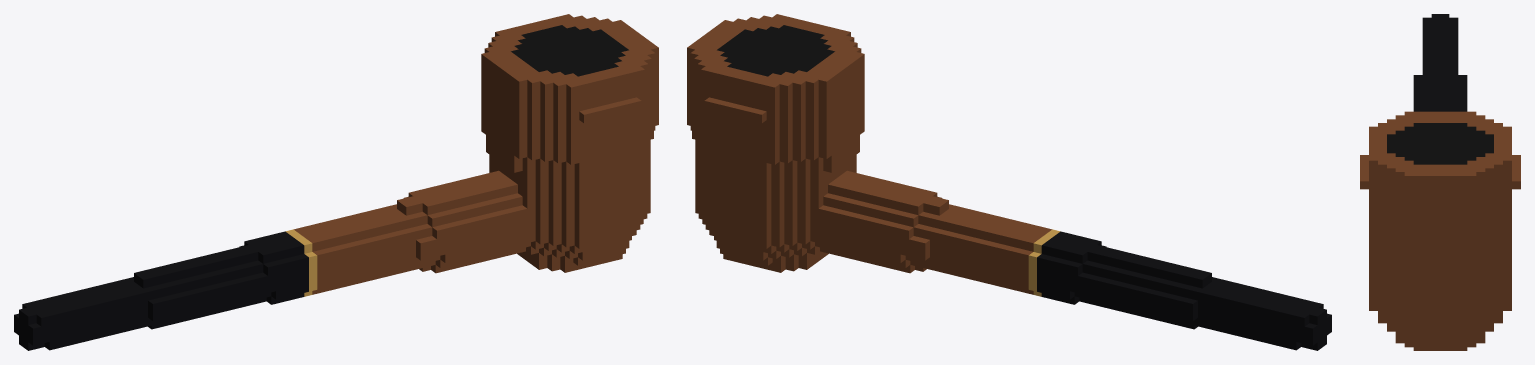
Rendered from pipe_tobacco.glb.
3 renders of one model, left to right at view 1: azimuth 30°, elevation 25°; view 2: azimuth 150°, elevation 25°; view 3: azimuth 270°, elevation 25°, orthographic. The views are drawn at different scales.
Visible parts, largest first — view 1: pipe_tobacco:compound; view 2: pipe_tobacco:compound; view 3: pipe_tobacco:compound.
Part boxes in pixels (box(x1,y1,x2,y2)): pipe_tobacco:compound: box(14, 14, 658, 350); pipe_tobacco:compound: box(687, 14, 1331, 350); pipe_tobacco:compound: box(1360, 14, 1520, 350).
Bounding box in the file's own units: 0.15 × 0.046 × 0.036.
